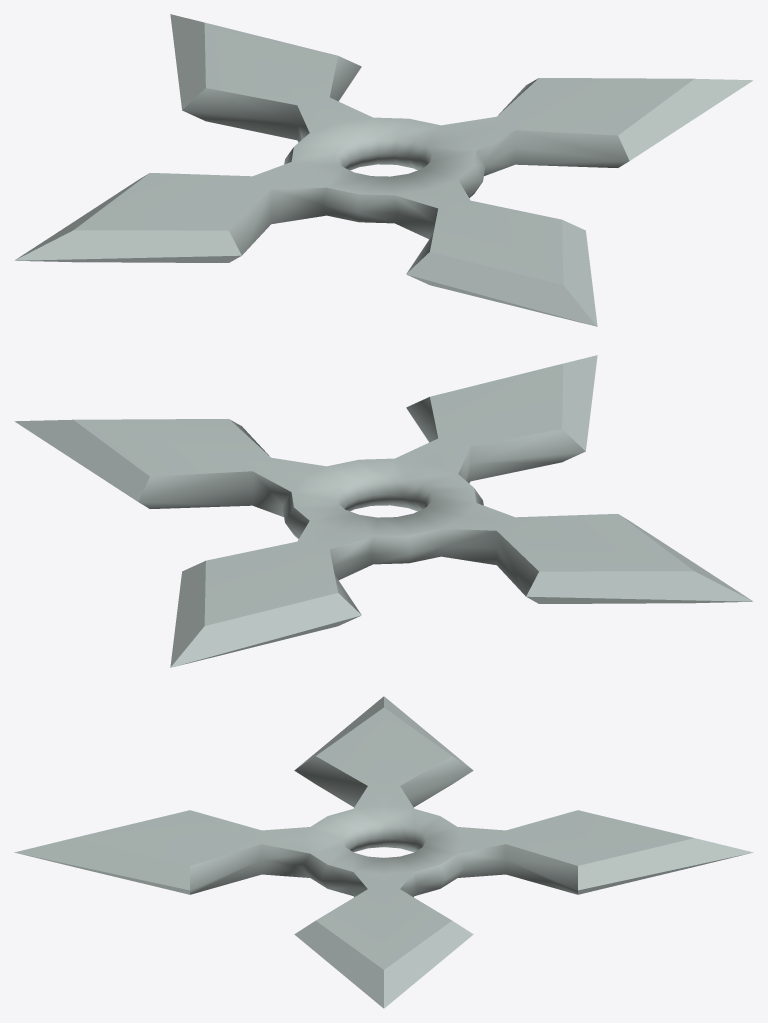
File: Shuriken 1.fbx
The picture shows the model from 3 angles, top to bottom: view 1: azimuth 30°, elevation 25°; view 2: azimuth 150°, elevation 25°; view 3: azimuth 270°, elevation 25°; orthographic projection. The views are drawn at different scales.
Visible parts, largest first — view 1: Shuriken 1; view 2: Shuriken 1; view 3: Shuriken 1.
Boxes of the visible parts, x1,y1,x2,y2 form: Shuriken 1: (14, 14, 753, 326); Shuriken 1: (14, 355, 753, 667); Shuriken 1: (14, 696, 753, 1008).
Bounding box in the file's own units: 0.5052 × 0.0232 × 0.5053.
